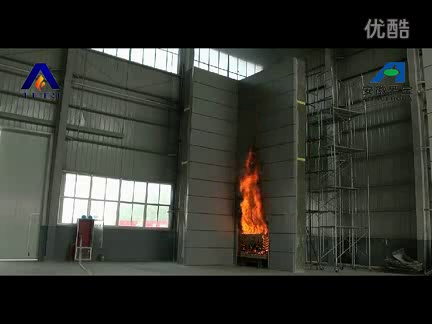fire: (239, 159, 267, 236)
